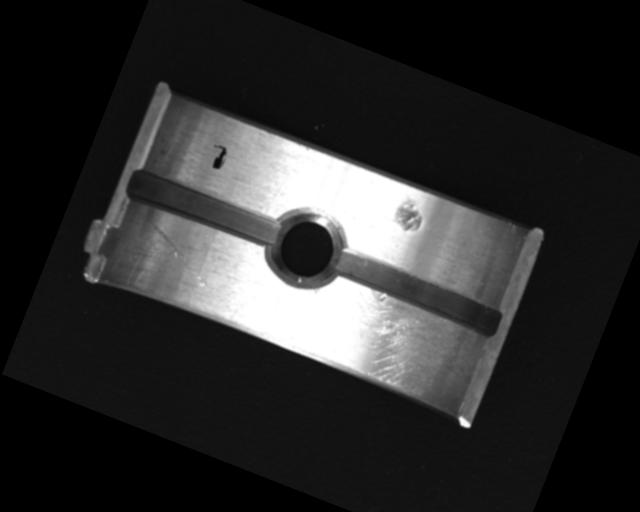blot: (205, 142, 231, 172)
bruise: (390, 192, 430, 236)
gap: (326, 243, 507, 341), (124, 164, 282, 251)
hole: (254, 197, 353, 297)
nick: (131, 218, 221, 289)
scratch: (299, 272, 482, 414)
